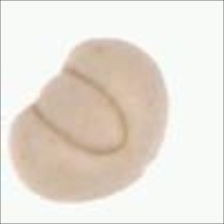L5: (28, 66, 130, 159)
L6: (7, 36, 171, 205)
